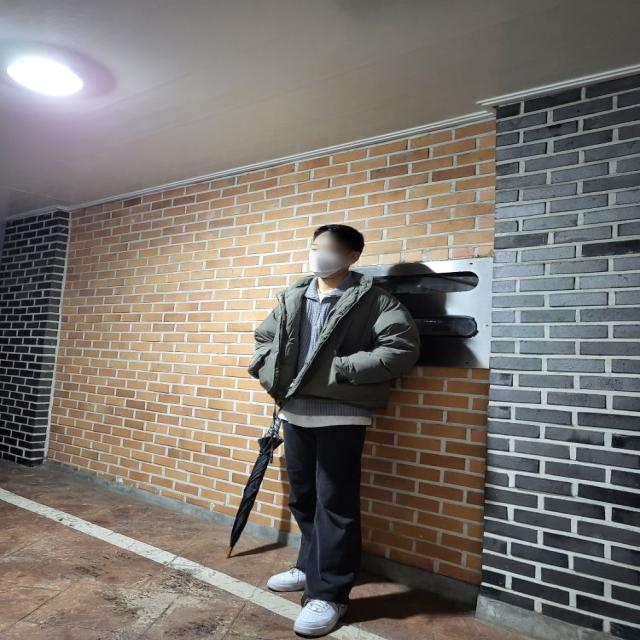denimpants: (279, 414, 360, 609)
padding: (251, 270, 416, 412)
